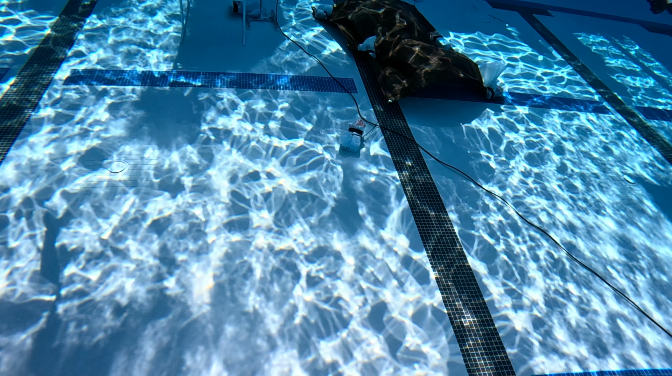sandbag: (318, 0, 501, 97)
